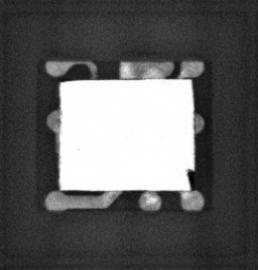DIE_BROKEN: (186, 167, 195, 191)
